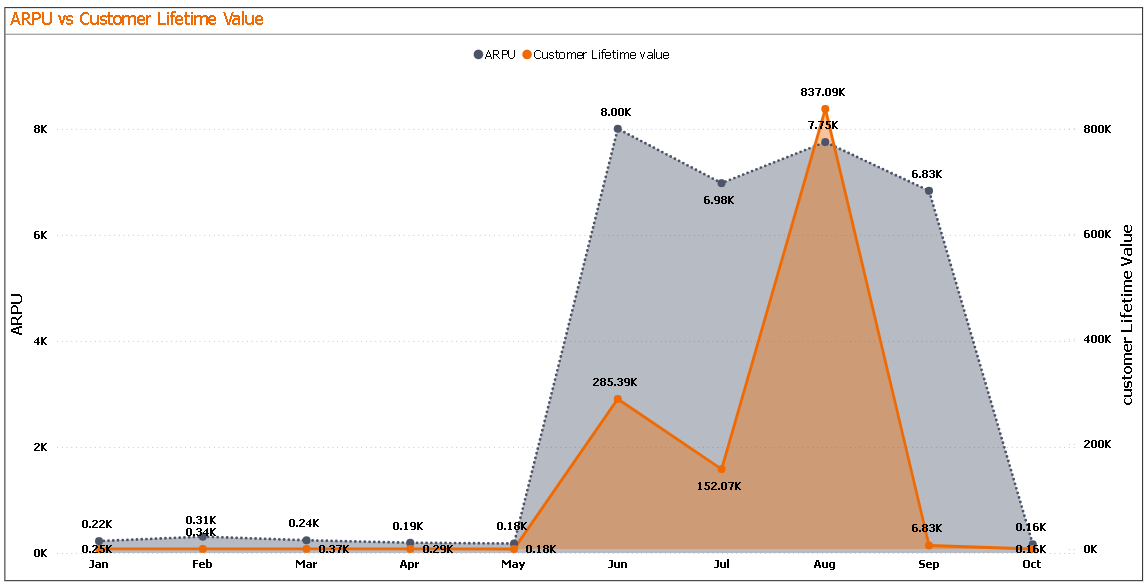

The dashboard page shown, as its layout file describes it:
{"tool":"powerbi","page":{"name":"clv","canvas":[1280,720],"ordinal":5},"visuals":[{"type":"areaChart","title":"ARPU vs Customer Lifetime Value ","fields":{"Category":["clv_2024 oct.month"],"Y":["Sum(clv_2024 oct.arpu)"],"Y2":["Sum(clv_2024 oct.customer_lifetime_value)"]},"box":[50,59.2,1198.7,603.9],"z":0}]}

Visuals, with their boxes on the page's 1280x720 design canvas (x1, y1, x2, y2). These are canvas units, not pixel positions in the 1148x586 screenshot, which may show the page scaled, cropped or inside an application window:
"ARPU vs Customer Lifetime Value " areaChart: 50 59 1249 663
